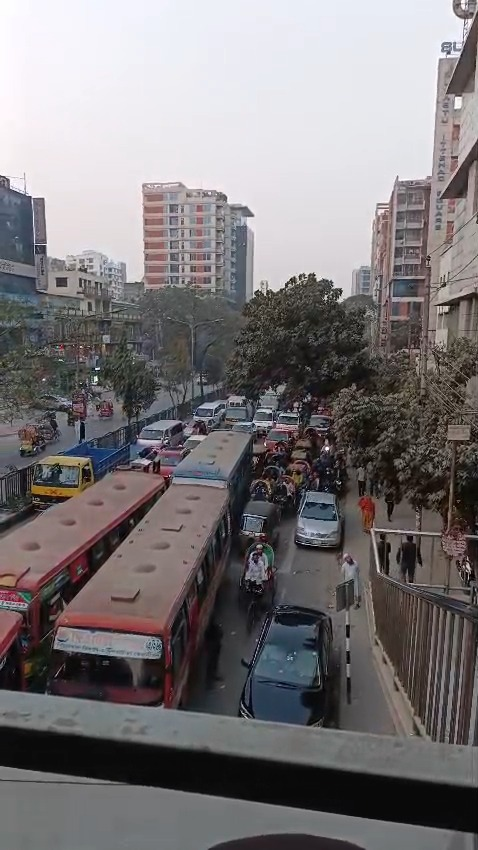Bus: (3, 470, 232, 709), (178, 428, 257, 493)
Truck: (31, 437, 133, 505)
cng: (237, 496, 278, 551)
private car: (243, 598, 340, 724), (297, 490, 345, 553), (137, 418, 187, 447), (193, 400, 226, 423)
